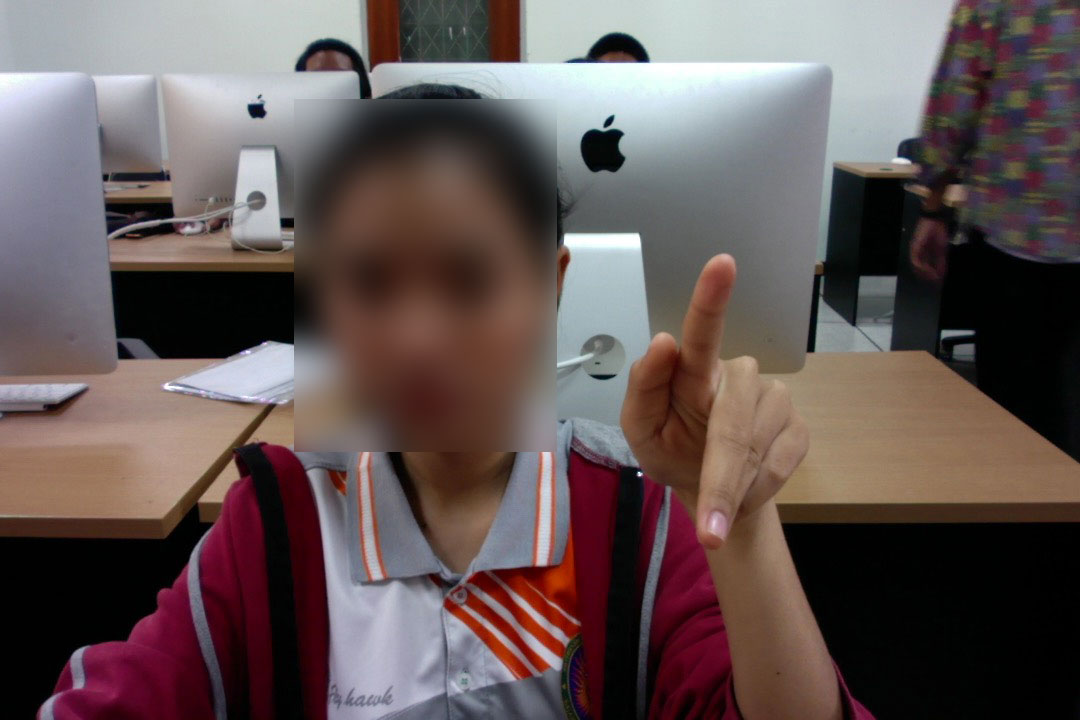por: (616, 251, 820, 551)
